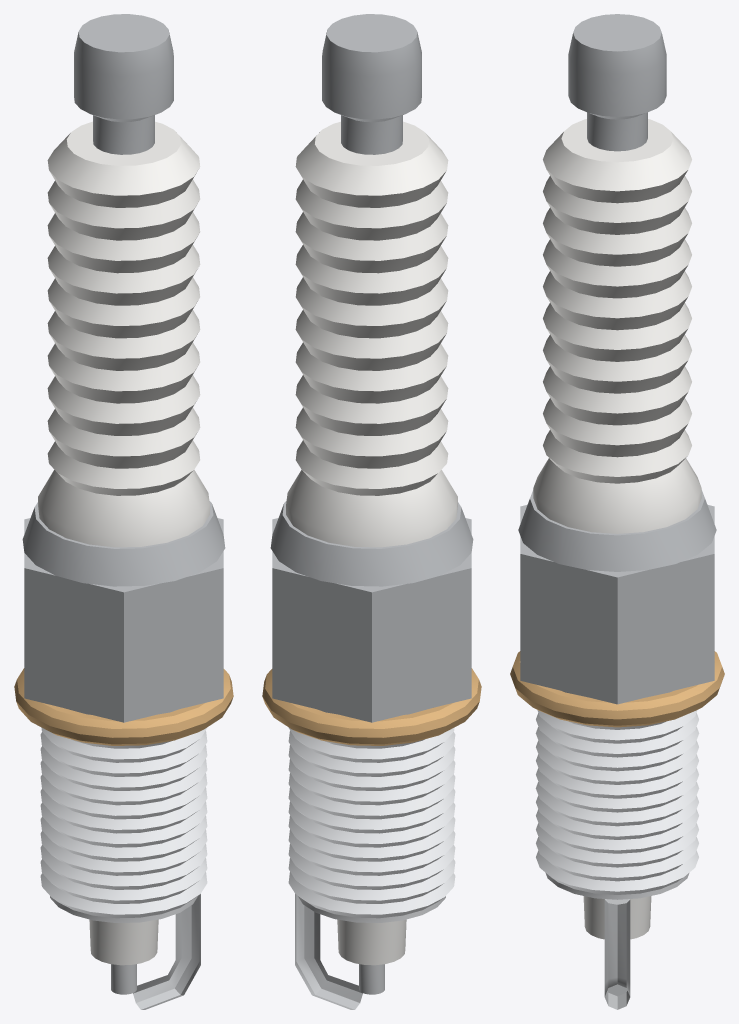
Rendered from spark_plug.glb.
The picture shows the model from 3 angles, left to right: view 1: azimuth 30°, elevation 25°; view 2: azimuth 150°, elevation 25°; view 3: azimuth 270°, elevation 25°; orthographic projection. The views are drawn at different scales.
Visible parts, largest first — view 1: insulator, shell, thread, terminal, gasket, electrodes, insulator_tip; view 2: insulator, shell, thread, terminal, gasket, electrodes, insulator_tip; view 3: insulator, shell, thread, terminal, gasket, electrodes, insulator_tip.
Part boxes in pixels (x1,y1,x2,y2): insulator: [38, 121, 209, 547]; shell: [22, 501, 225, 722]; thread: [40, 727, 207, 922]; terminal: [74, 14, 173, 154]; gasket: [14, 668, 233, 745]; electrodes: [111, 894, 200, 1009]; insulator_tip: [89, 919, 158, 965]; insulator: [286, 121, 457, 547]; shell: [270, 501, 473, 722]; thread: [288, 727, 455, 922]; terminal: [322, 14, 421, 154]; gasket: [262, 668, 481, 745]; electrodes: [295, 894, 384, 1009]; insulator_tip: [337, 919, 406, 965]; insulator: [533, 119, 701, 533]; shell: [518, 490, 716, 704]; thread: [535, 710, 699, 899]; terminal: [568, 14, 666, 151]; gasket: [510, 651, 724, 727]; electrodes: [604, 899, 630, 1009]; insulator_tip: [583, 896, 651, 939].
Size of the model in its own units: 19.2 by 90.29 by 18.4.
